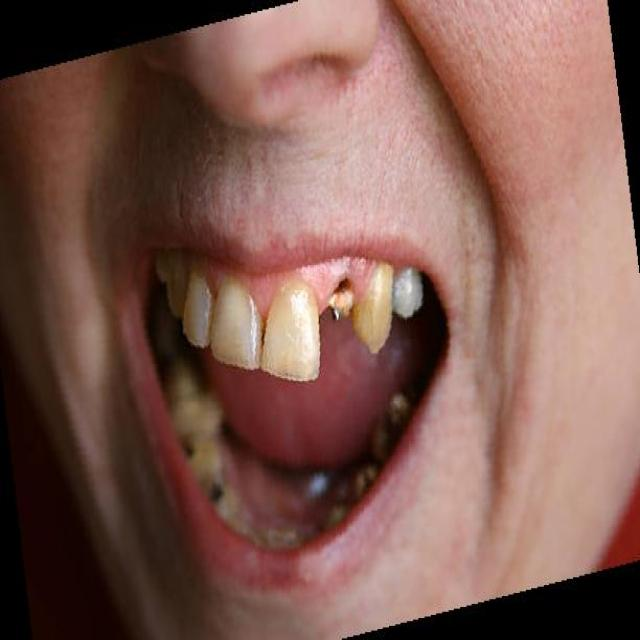caries: (321, 274, 366, 320)
